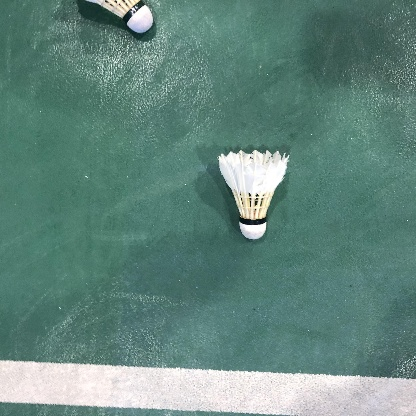ball_single: (219, 150, 289, 240), (84, 0, 153, 33)
